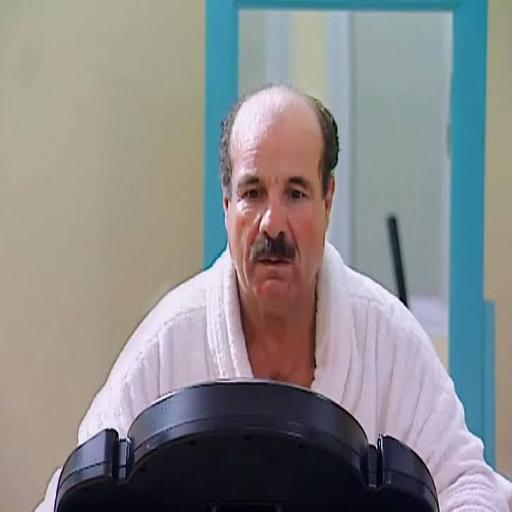beji_matrix: (224, 91, 333, 291)
